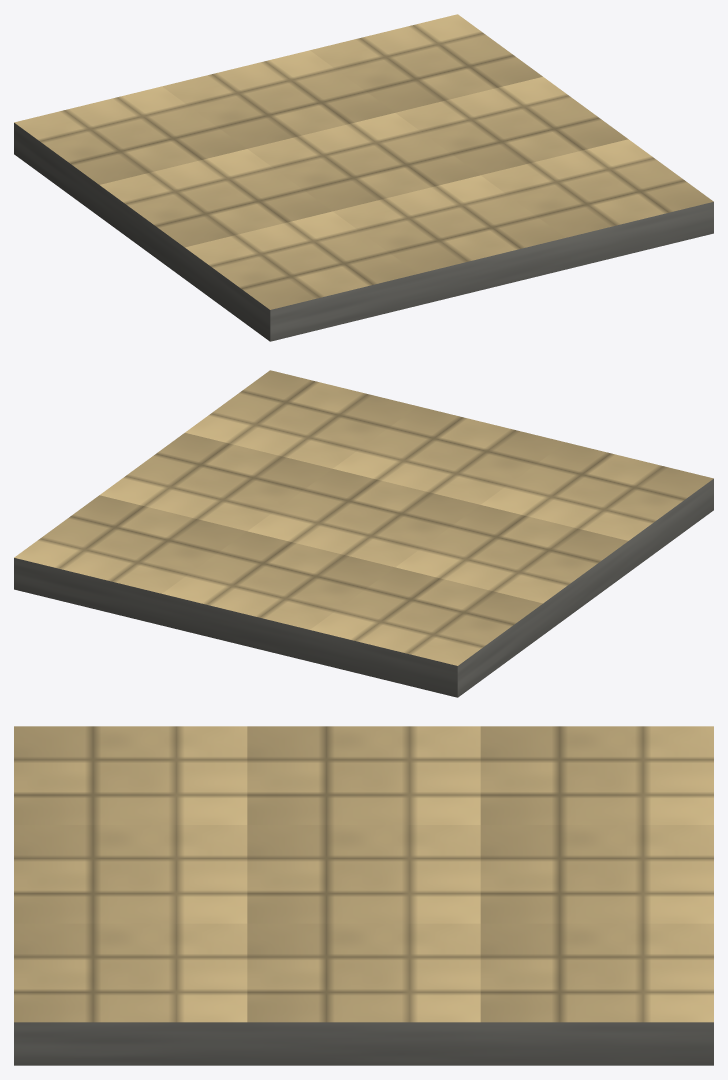
Rendered from ground_plaza_01.glb.
3 renders of one model, top to bottom at view 1: azimuth 30°, elevation 25°; view 2: azimuth 150°, elevation 25°; view 3: azimuth 270°, elevation 25°, orthographic. The views are drawn at different scales.
Visible parts, largest first — view 1: ground_plaza_01; view 2: ground_plaza_01; view 3: ground_plaza_01.
Boxes of the visible parts, x1,y1,x2,y2 form: ground_plaza_01: (14, 14, 713, 341); ground_plaza_01: (14, 370, 713, 697); ground_plaza_01: (14, 726, 713, 1065).
Bounding box in the file's own units: 2.19 × 0.15 × 2.19.
1 material, 1 textured.
